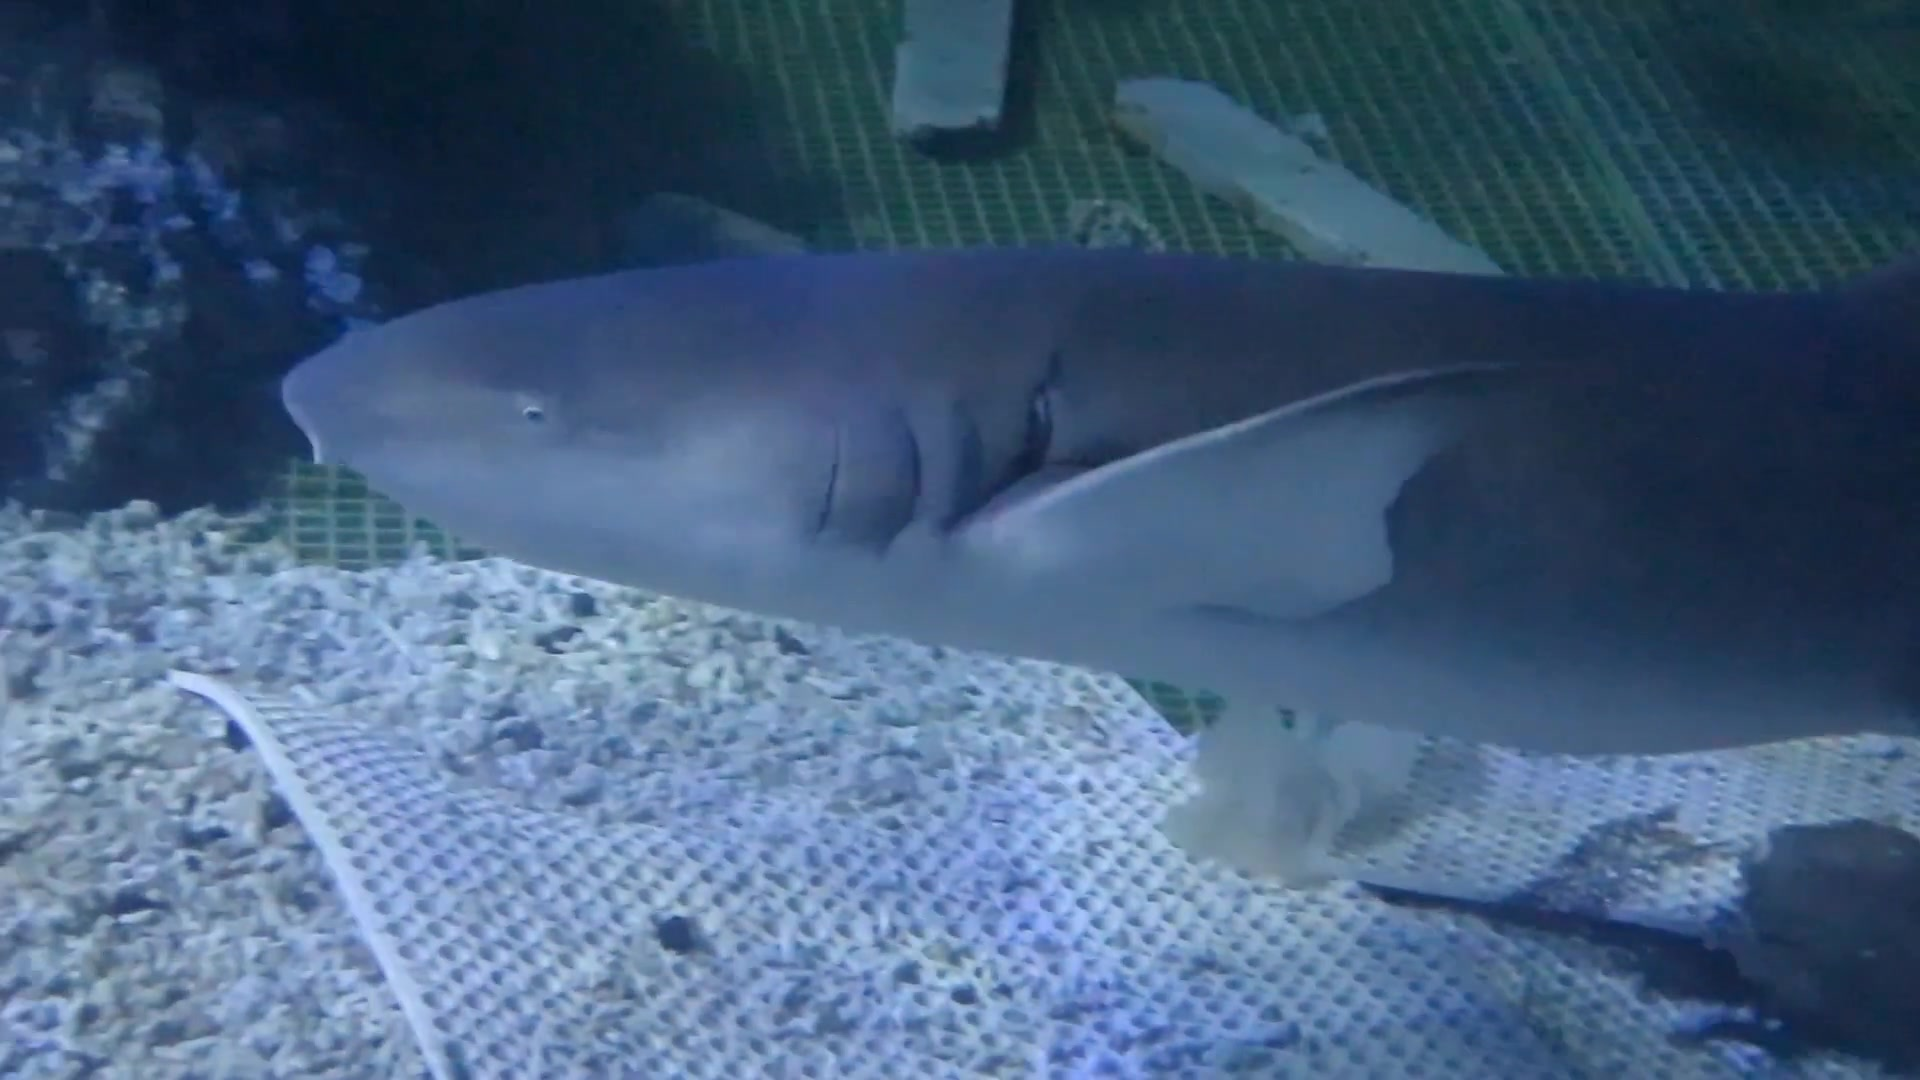Nebrius ferrugineus: (274, 191, 1919, 752)
